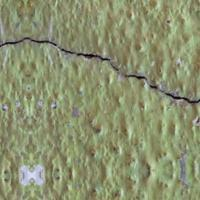crack: (0, 21, 199, 118)
